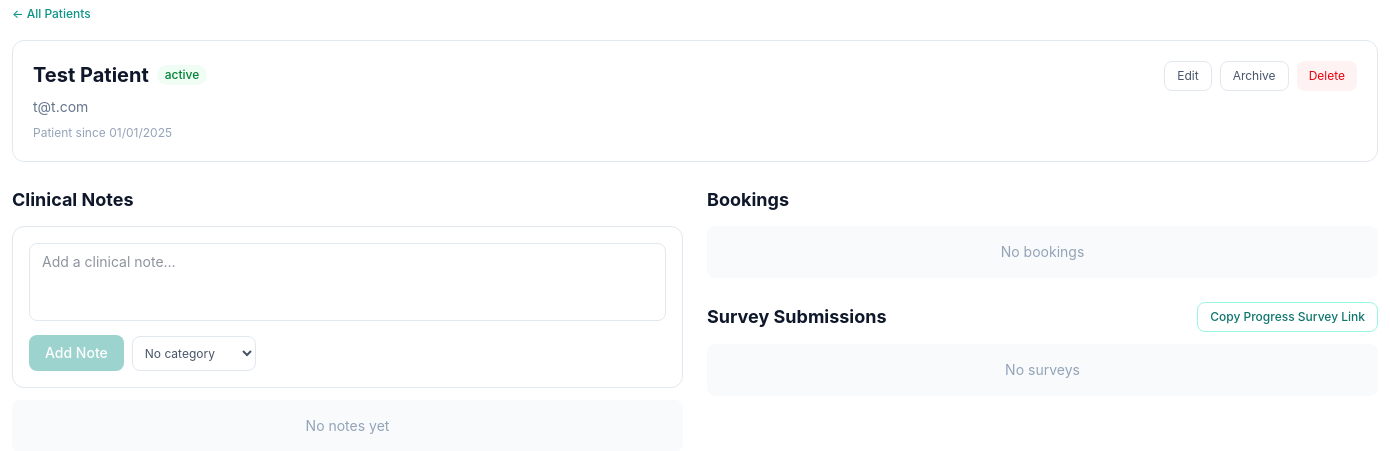
Test case: Patient Detail Page › shows copied confirmation when copy survey link is clicked
Click the button "Copy Progress Survey Link". click: {"x": 1288, "y": 317}
box: [1197,302,1378,332]
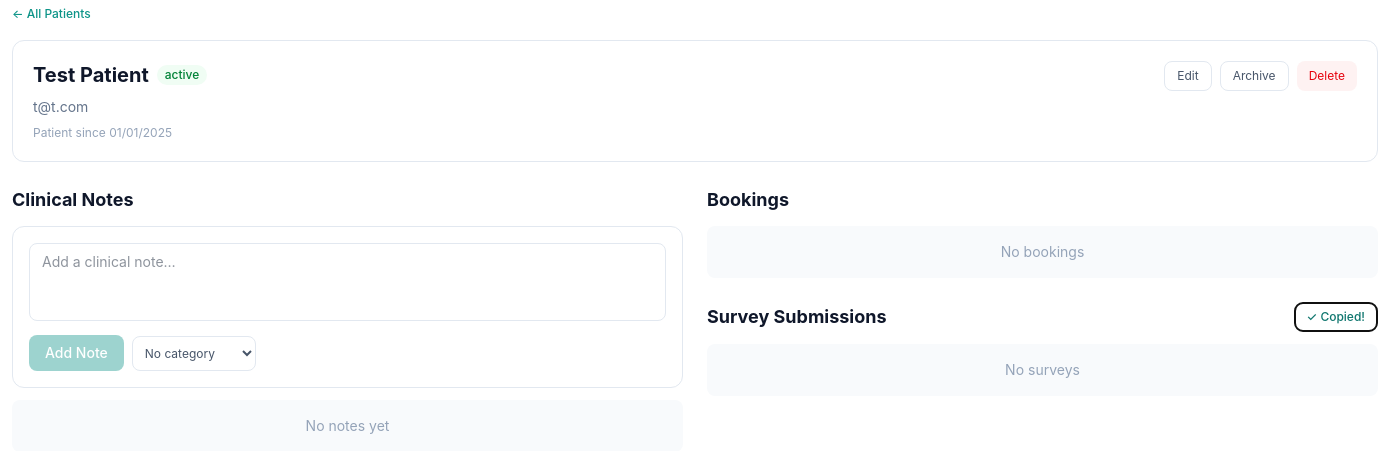
Check: the button "✓ Copied!" is shown, box [1294,302,1378,332]
Check: the button "Copy Progress Survey Link" is gone
